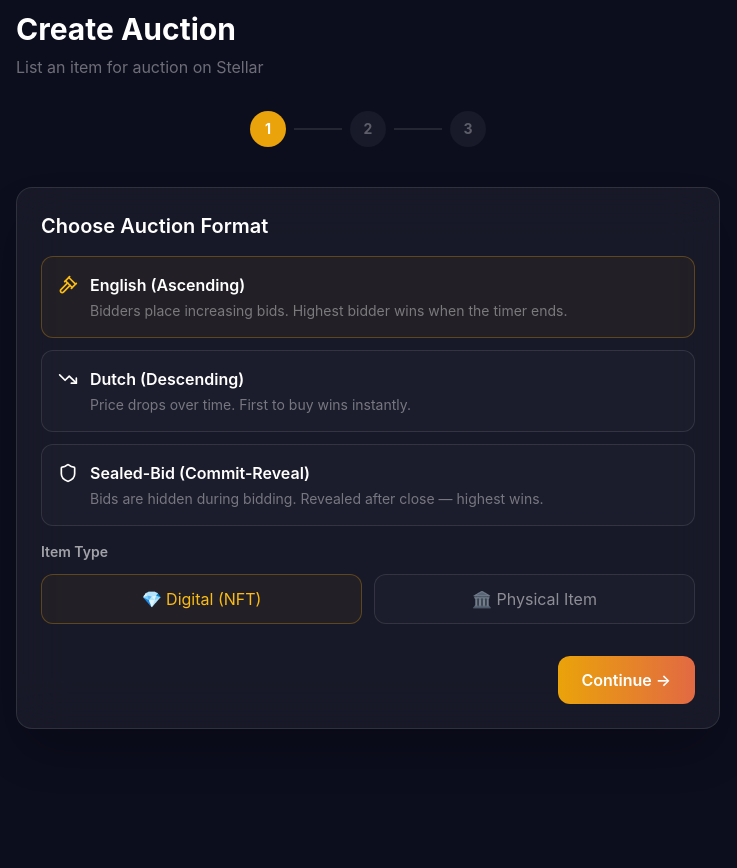
Test: CreateAuctionPage › navigates to step 2 on Continue click
The width and height of the screenshot is (737, 868).
Click the button "Continue →" at (626,680), box top-left (558, 656), bottom-right (695, 704)
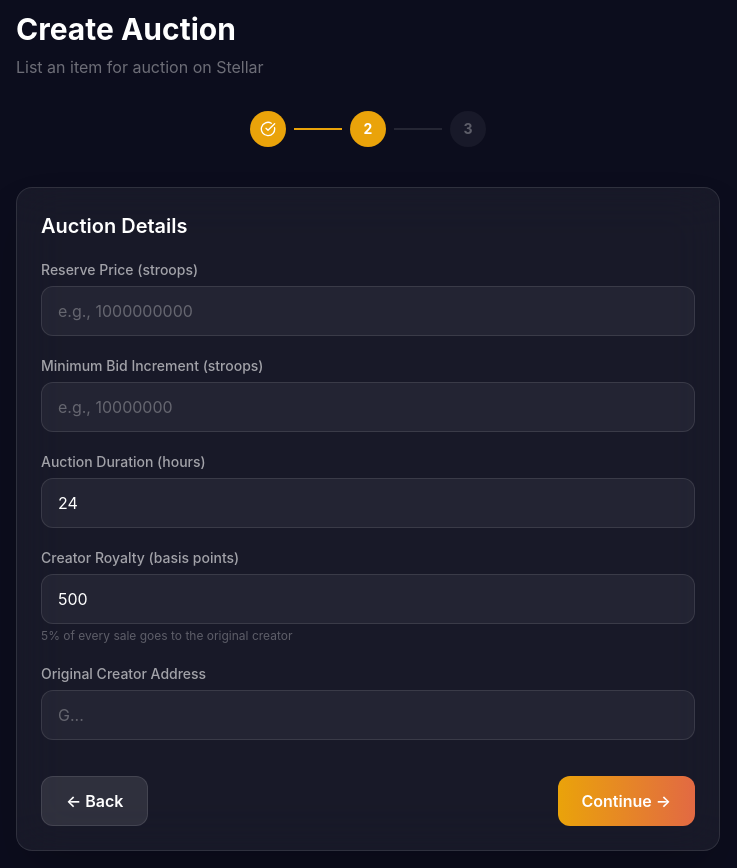
expect the heading "Auction Details" is shown: met, box top-left (41, 214), bottom-right (188, 238)
